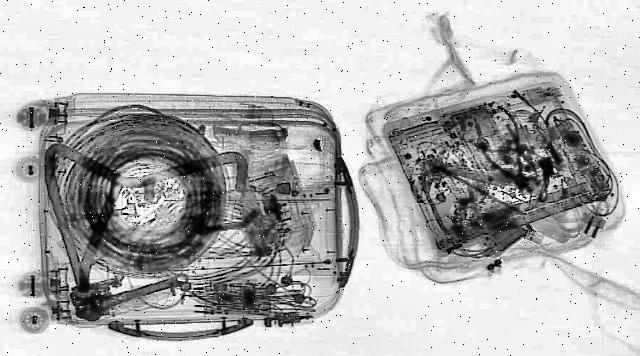Pliers: (469, 122, 556, 204)
Wrench: (66, 267, 202, 323)
